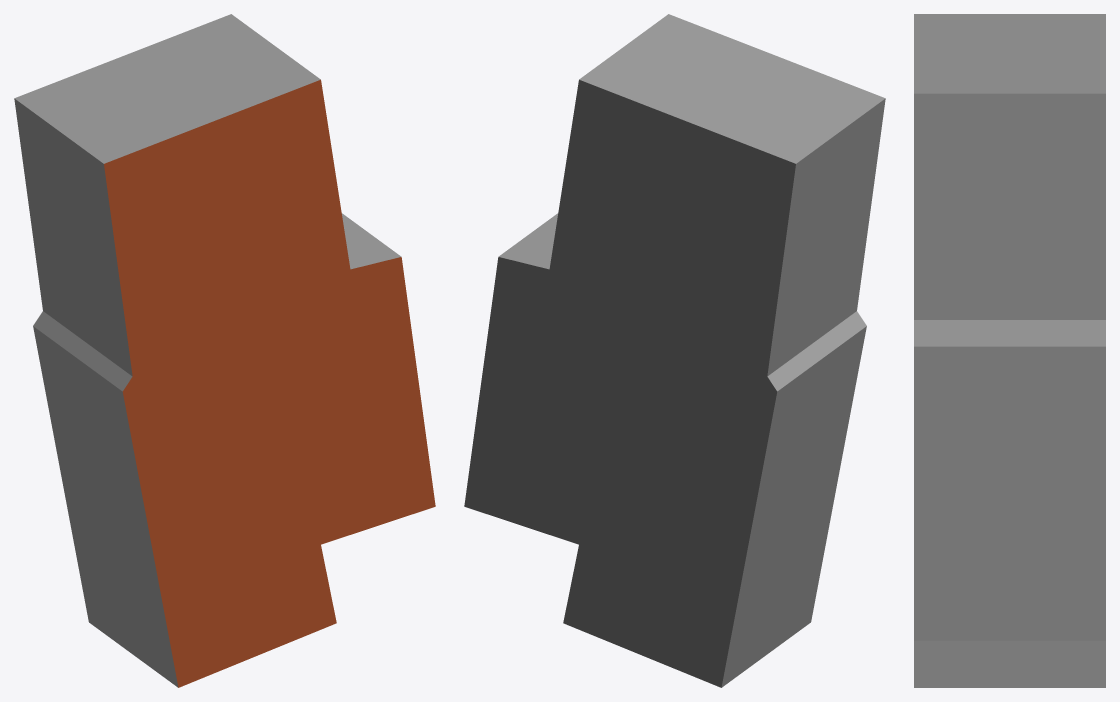
The model's file is construction_3393_assumed_A_Casa_h6m.obj.
3 renders of one model, left to right at view 1: azimuth 30°, elevation 25°; view 2: azimuth 150°, elevation 25°; view 3: azimuth 270°, elevation 25°, orthographic. The views are drawn at different scales.
Visible parts, largest first — view 1: construction_3393_assumed_A_Casa; view 2: construction_3393_assumed_A_Casa; view 3: construction_3393_assumed_A_Casa.
Boxes of the visible parts, x1,y1,x2,y2 form: construction_3393_assumed_A_Casa: (14,14,435,687); construction_3393_assumed_A_Casa: (464,14,885,687); construction_3393_assumed_A_Casa: (914,14,1105,687).
Size of the model in its own units: 12.82 by 21.18 by 6.
